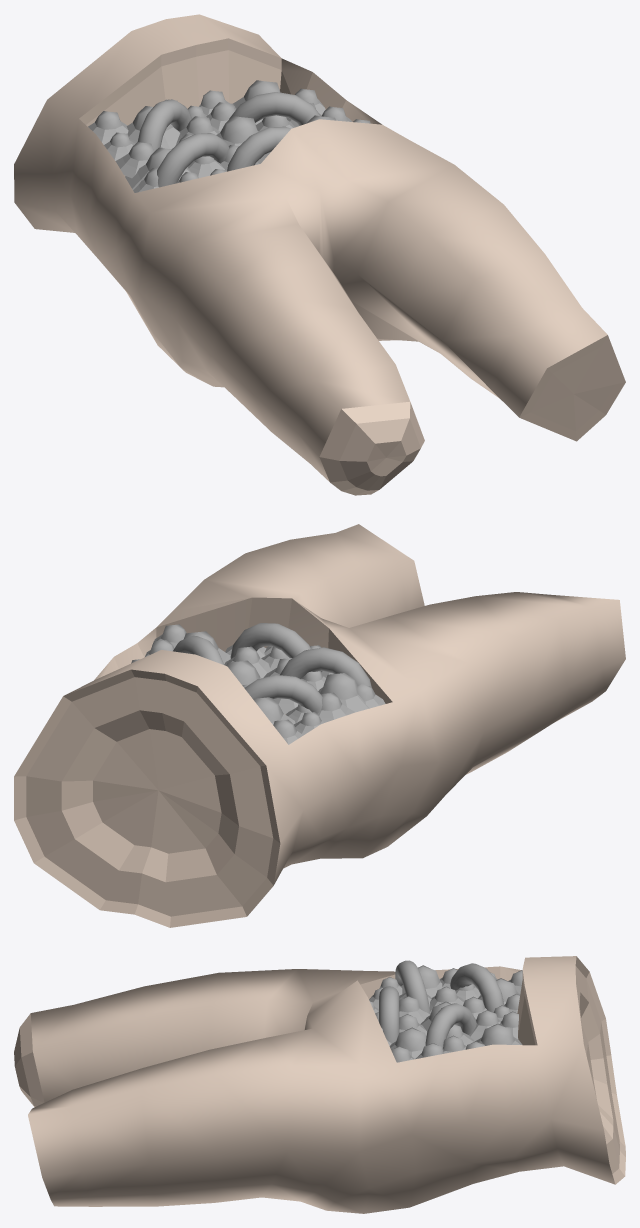
File: sm_humanBody.fbx
The picture shows the model from 3 angles, top to bottom: view 1: azimuth 30°, elevation 25°; view 2: azimuth 150°, elevation 25°; view 3: azimuth 270°, elevation 25°; orthographic projection. The views are drawn at different scales.
Parts seen in each view (by area): view 1: polySurface1; view 2: polySurface1; view 3: polySurface1.
Part boxes in pixels (left/top/right/bottom): polySurface1: left=14, top=14, right=625, bottom=495; polySurface1: left=14, top=524, right=625, bottom=927; polySurface1: left=14, top=956, right=625, bottom=1213.
Bounding box in the file's own units: 364 × 265 × 705.
